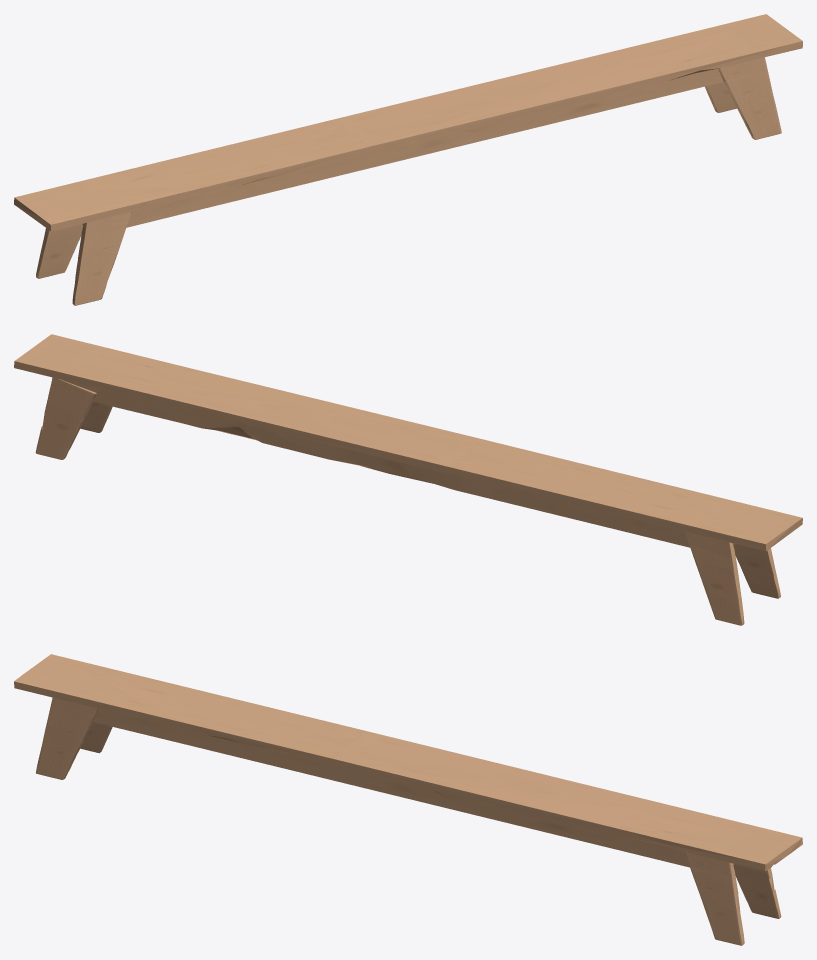
The model's file is gym_bench_pale.glb.
The picture shows the model from 3 angles, top to bottom: view 1: azimuth 30°, elevation 25°; view 2: azimuth 150°, elevation 25°; view 3: azimuth 330°, elevation 25°; orthographic projection.
Size of the model in its own units: 3 by 0.33 by 0.27.
1 material, 1 textured.
